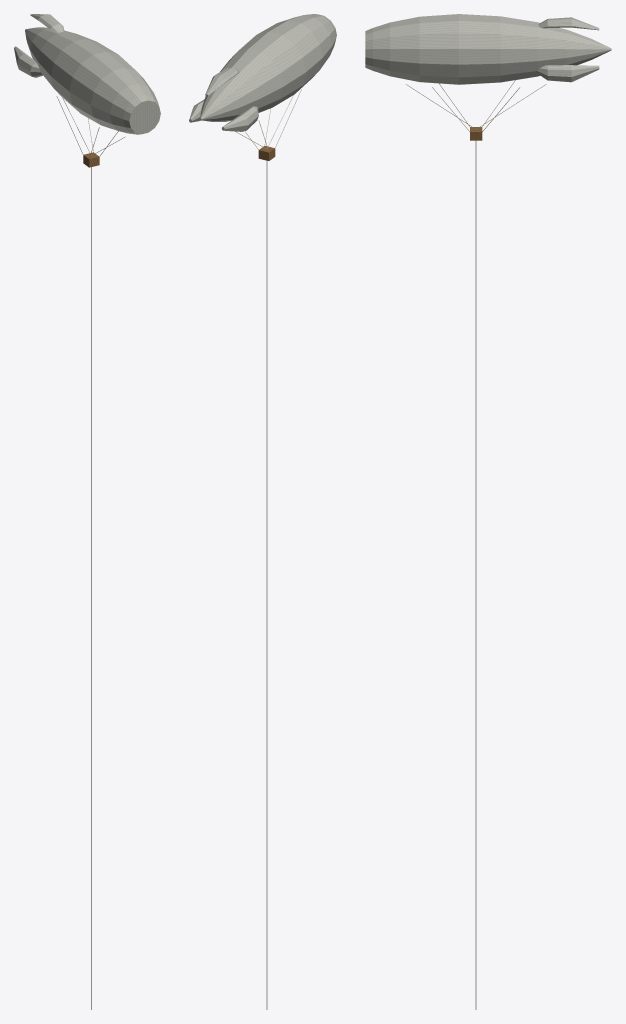
Rendered from balloon.gltf.
3 renders of one model, left to right at view 1: azimuth 30°, elevation 25°; view 2: azimuth 150°, elevation 25°; view 3: azimuth 270°, elevation 25°, orthographic. The views are drawn at different scales.
Parts seen in each view (by area): view 1: balloon; view 2: balloon; view 3: balloon.
Boxes of the visible parts, box(x1,y1,x2,y2) form: balloon: box(14, 14, 160, 1009); balloon: box(189, 14, 336, 1009); balloon: box(365, 14, 611, 1009).
Size of the model in its own units: 20.62 by 312 by 70.
3 materials, 2 textured.
